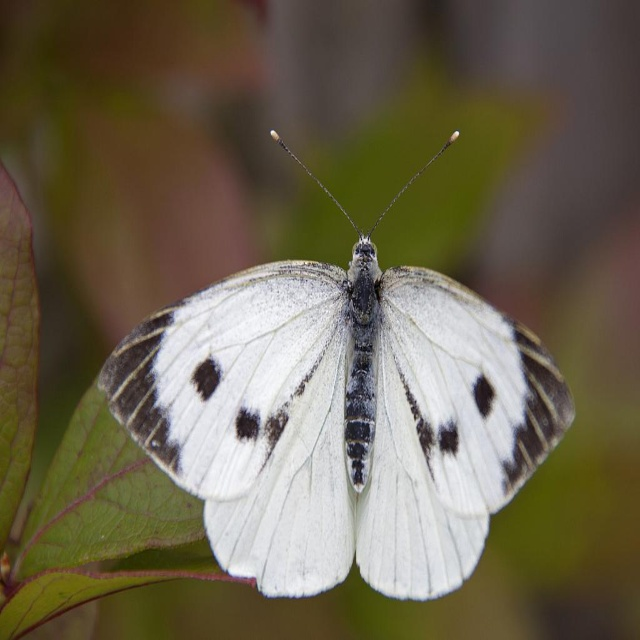Butterfly: (97, 129, 577, 601)
